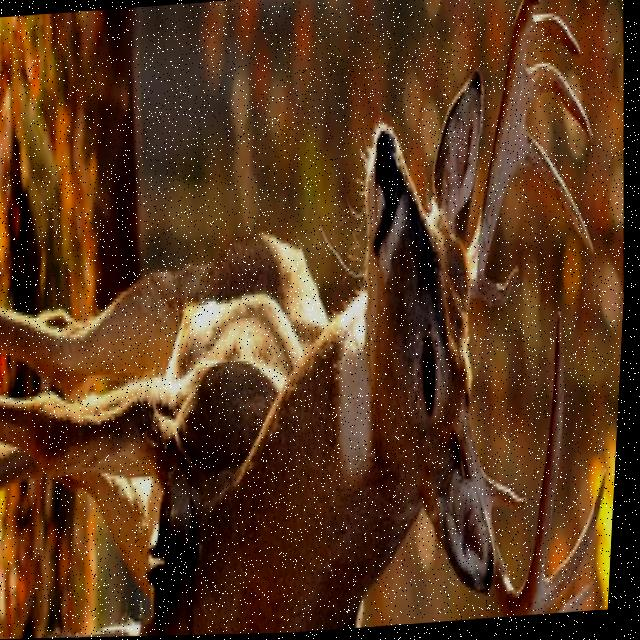L-F: (467, 0, 541, 308)
L-G1: (482, 262, 524, 313)
L-G2: (518, 122, 598, 258)
L-G3: (526, 63, 596, 146)
L-G4: (528, 13, 583, 61)
R-F: (459, 306, 569, 620)
R-G1: (491, 474, 534, 513)
R-G2: (551, 579, 601, 617)
R-G3: (543, 466, 612, 617)
